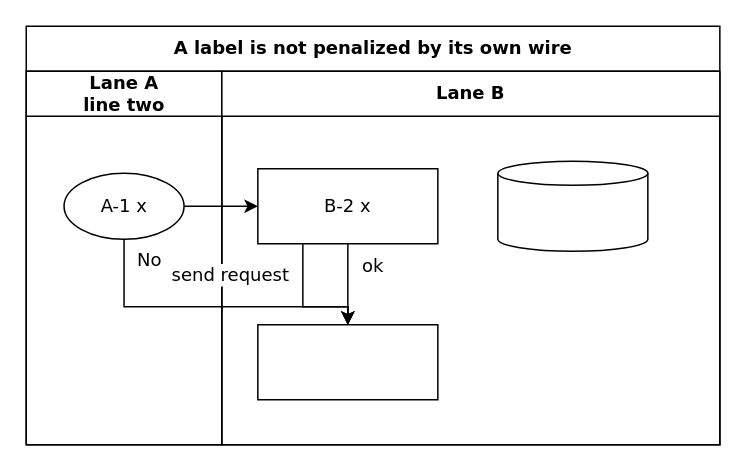
Image size: 747x471. Some labels were removed from this diagram. The centre of each missing label's shape, as x and y in pixels:
"B-3 x" belongs at [347,361].
"d0" belongs at [572,205].
